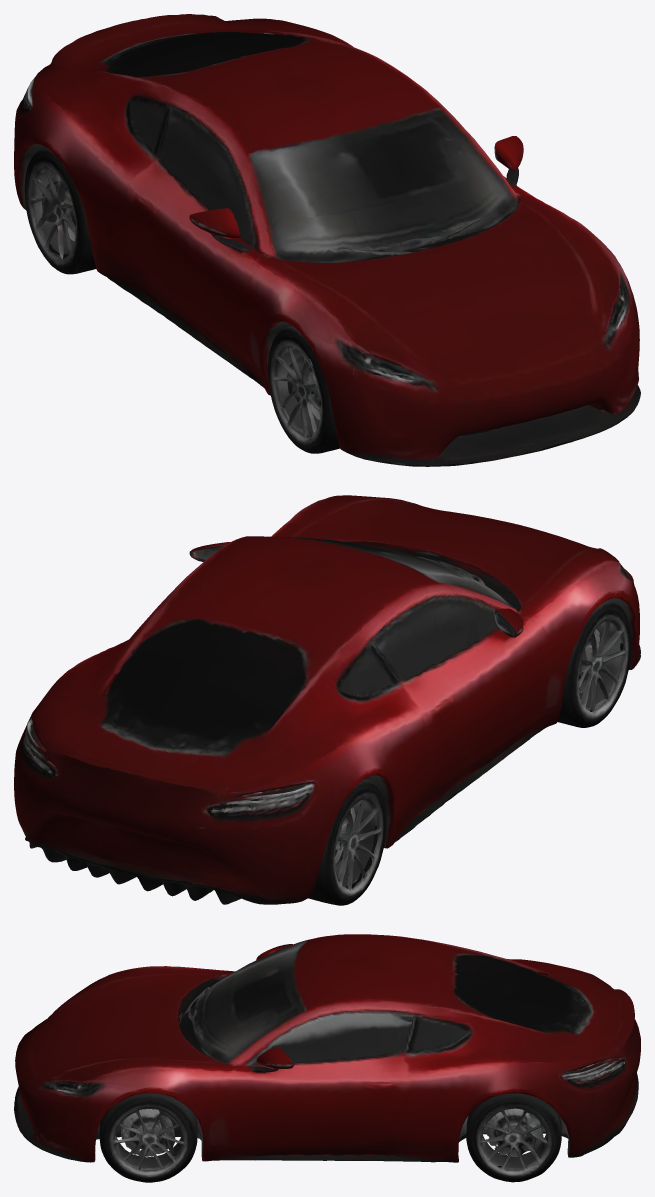
File: car_red.0.glb
3 renders of one model, top to bottom at view 1: azimuth 30°, elevation 25°; view 2: azimuth 150°, elevation 25°; view 3: azimuth 270°, elevation 25°, orthographic. The views are drawn at different scales.
Parts seen in each view (by area): view 1: geometry_0; view 2: geometry_0; view 3: geometry_0.
Boxes of the visible parts, x1,y1,x2,y2 form: geometry_0: (14, 14, 640, 466); geometry_0: (14, 495, 640, 905); geometry_0: (14, 934, 640, 1182).
Bounding box in the file's own units: 0.4517 × 0.2927 × 1.
Materials: 1 (1 with a texture image).
